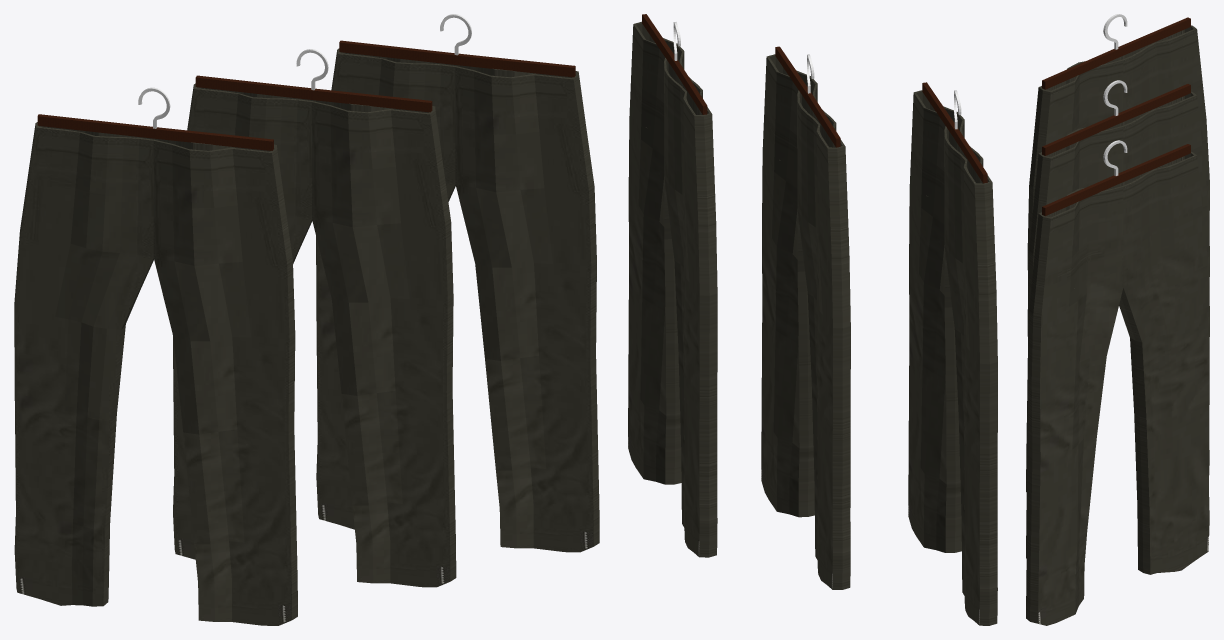
File: chinogreen2.glb
3 renders of one model, left to right at view 1: azimuth 30°, elevation 25°; view 2: azimuth 150°, elevation 25°; view 3: azimuth 270°, elevation 25°, orthographic. The views are drawn at different scales.
Visible parts, largest first — view 1: Plane.347; view 2: Plane.347; view 3: Plane.347.
Boxes of the visible parts, <box> form: Plane.347: <box>14,14,599,625</box>; Plane.347: <box>628,14,997,625</box>; Plane.347: <box>1026,14,1209,625</box>.
Size of the model in its own units: 0.4608 by 0.4706 by 0.1741.
Materials: 3 (3 with a texture image).
